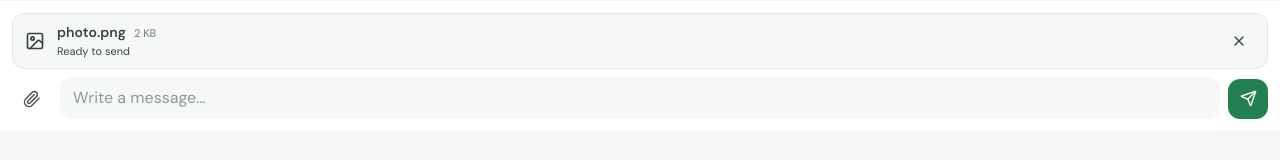
MessageComposer - attachments › choosing a file › sends an attachment-only message once the upload is ready
This screenshot has width=1280, height=160.
Earlier steps of the test are not shown.
expect the button named "Attach an image, PDF or Excel file" is shown: met, box [12,79,52,119]
expect the text "Ready to send" is shown: met, box [57,44,130,58]
Click the button named "Send" at (1248, 99), box [1228,79,1268,119]
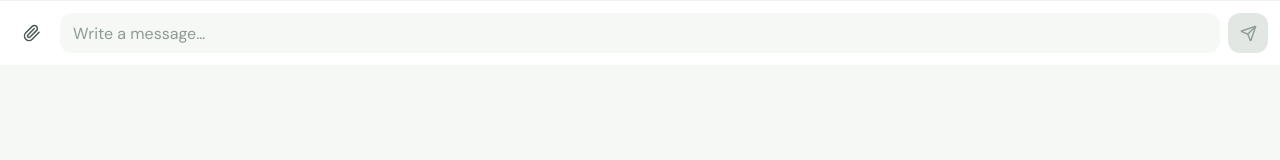
expect the element with test id "attachment-chip" is gone: met
